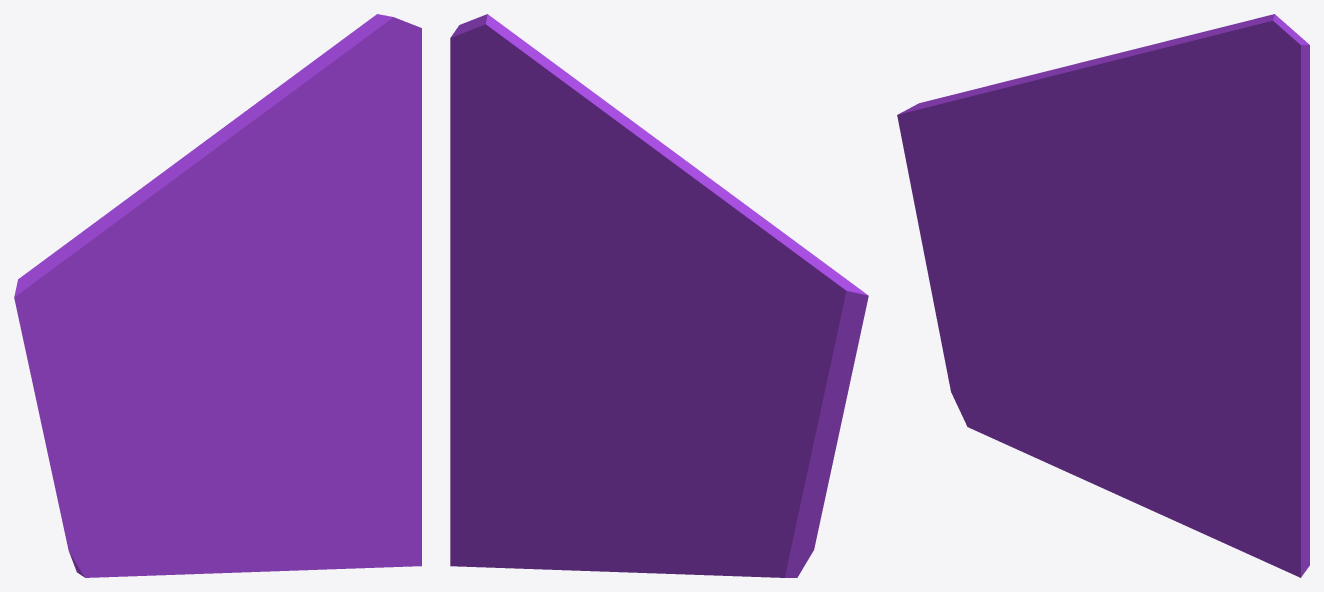
Rendered from Glass_83_1_19_chunks.fbx.
3 renders of one model, left to right at view 1: azimuth 30°, elevation 25°; view 2: azimuth 150°, elevation 25°; view 3: azimuth 330°, elevation 25°, orthographic.
Parts seen in each view (by area): view 1: Glass_83_1_19_9, Glass_83_1_19_6, Glass_83_1_19_4, Glass_83_1_19_8, Glass_83_1_19_12, Glass_83_1_19_1, Glass_83_1_19_2, Glass_83_1_19_7, Glass_83_1_19_10, Glass_83_1_19_11, Glass_83_1_19_3, Glass_83_1_19_5; view 2: Glass_83_1_19_9, Glass_83_1_19_6, Glass_83_1_19_4, Glass_83_1_19_8, Glass_83_1_19_12, Glass_83_1_19_2, Glass_83_1_19_10, Glass_83_1_19_3, Glass_83_1_19_5, Glass_83_1_19_1, Glass_83_1_19_0, Glass_83_1_19_7; view 3: Glass_83_1_19_6, Glass_83_1_19_9, Glass_83_1_19_4, Glass_83_1_19_8, Glass_83_1_19_12, Glass_83_1_19_1, Glass_83_1_19_2, Glass_83_1_19_7, Glass_83_1_19_10, Glass_83_1_19_11, Glass_83_1_19_3, Glass_83_1_19_5.
Boxes of the visible parts, <box> form: Glass_83_1_19_9: <box>60,108,303,336</box>; Glass_83_1_19_6: <box>205,412,421,573</box>; Glass_83_1_19_4: <box>14,248,213,432</box>; Glass_83_1_19_8: <box>318,210,421,464</box>; Glass_83_1_19_12: <box>250,14,421,174</box>; Glass_83_1_19_1: <box>131,395,227,575</box>; Glass_83_1_19_2: <box>42,425,147,577</box>; Glass_83_1_19_7: <box>227,268,339,431</box>; Glass_83_1_19_10: <box>225,199,421,341</box>; Glass_83_1_19_11: <box>303,134,421,204</box>; Glass_83_1_19_3: <box>165,332,233,402</box>; Glass_83_1_19_5: <box>217,396,275,477</box>; Glass_83_1_19_9: <box>567,109,815,335</box>; Glass_83_1_19_6: <box>450,420,662,573</box>; Glass_83_1_19_4: <box>668,256,868,432</box>; Glass_83_1_19_8: <box>450,215,561,475</box>; Glass_83_1_19_12: <box>450,14,616,194</box>; Glass_83_1_19_2: <box>713,424,840,577</box>; Glass_83_1_19_10: <box>450,175,649,336</box>; Glass_83_1_19_3: <box>636,327,741,459</box>; Glass_83_1_19_5: <box>558,343,652,495</box>; Glass_83_1_19_1: <box>647,449,727,575</box>; Glass_83_1_19_0: <box>470,229,648,363</box>; Glass_83_1_19_7: <box>548,293,611,378</box>; Glass_83_1_19_6: <box>1087,374,1309,577</box>; Glass_83_1_19_9: <box>949,46,1183,256</box>; Glass_83_1_19_4: <box>897,93,1094,305</box>; Glass_83_1_19_8: <box>1198,219,1309,477</box>; Glass_83_1_19_12: <box>1146,14,1309,172</box>; Glass_83_1_19_1: <box>1013,291,1108,480</box>; Glass_83_1_19_2: <box>924,255,1029,454</box>; Glass_83_1_19_7: <box>1108,243,1219,374</box>; Glass_83_1_19_10: <box>1106,162,1309,264</box>; Glass_83_1_19_11: <box>1183,133,1309,214</box>; Glass_83_1_19_3: <box>1046,246,1114,314</box>; Glass_83_1_19_5: <box>1098,316,1155,391</box>.
Bounding box in the file's own units: 701 × 913 × 27.2.
